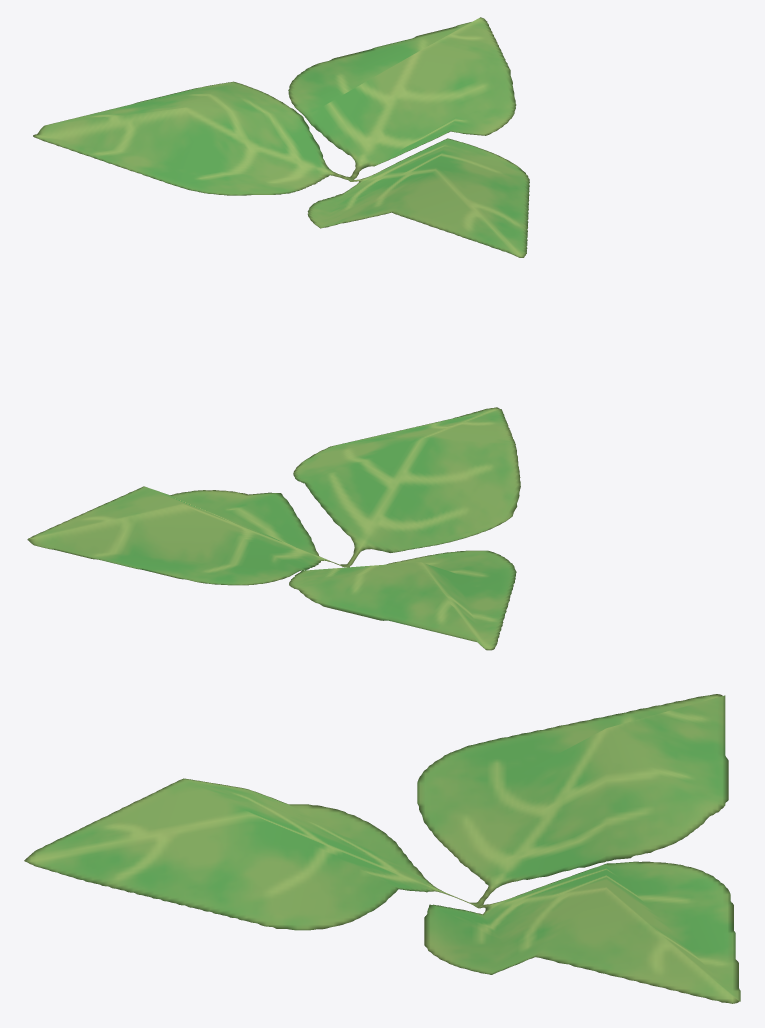
The model's file is LeafSetB_4.fbx.
The picture shows the model from 3 angles, top to bottom: view 1: azimuth 30°, elevation 25°; view 2: azimuth 150°, elevation 25°; view 3: azimuth 270°, elevation 25°; orthographic projection. The views are drawn at different scales.
Visible parts, largest first — view 1: LeafSetB_4; view 2: LeafSetB_4; view 3: LeafSetB_4.
Boxes of the visible parts, x1=… form: LeafSetB_4: x1=33, y1=17, x2=529, y2=257; LeafSetB_4: x1=27, y1=407, x2=520, y2=650; LeafSetB_4: x1=24, y1=694, x2=740, y2=1003.
Size of the model in its own units: 0.5726 by 0.0783 by 0.5478.
